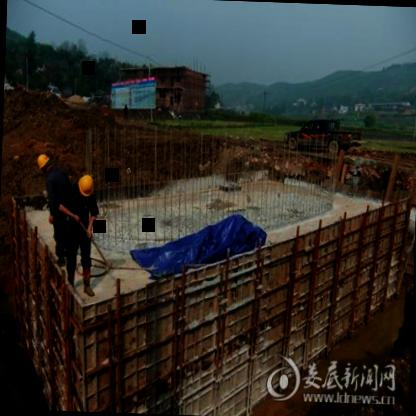helmet: (74, 172, 97, 204), (35, 150, 55, 180)
